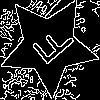F: (24, 21, 77, 74)
